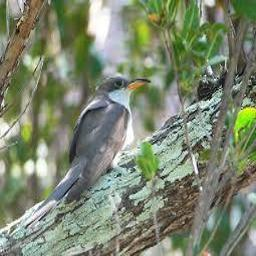Cuckoo: (34, 73, 151, 214)
